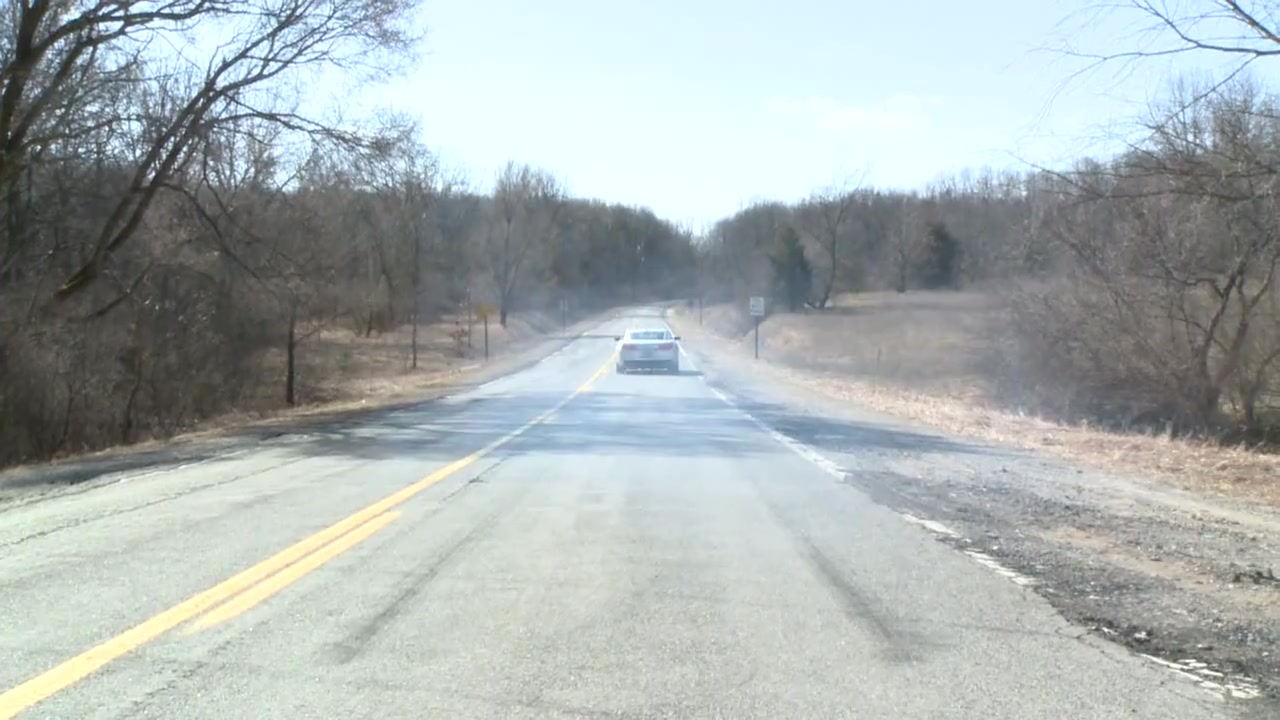car: (611, 322, 687, 382)
